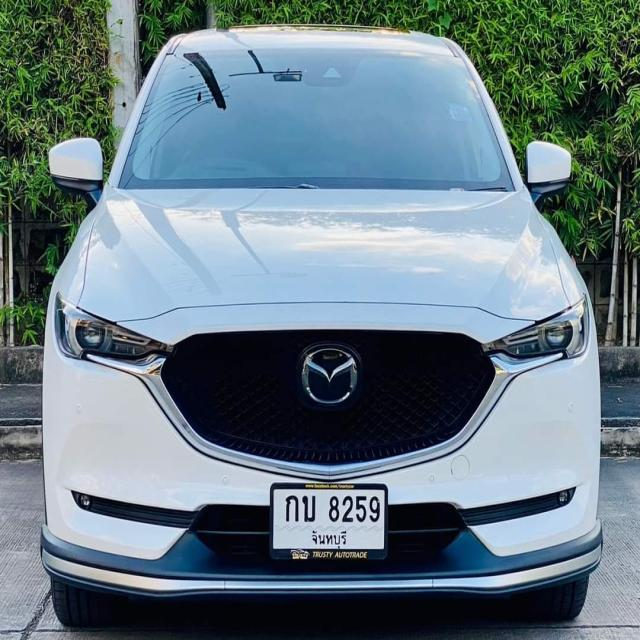license_plate: (269, 478, 390, 563)
